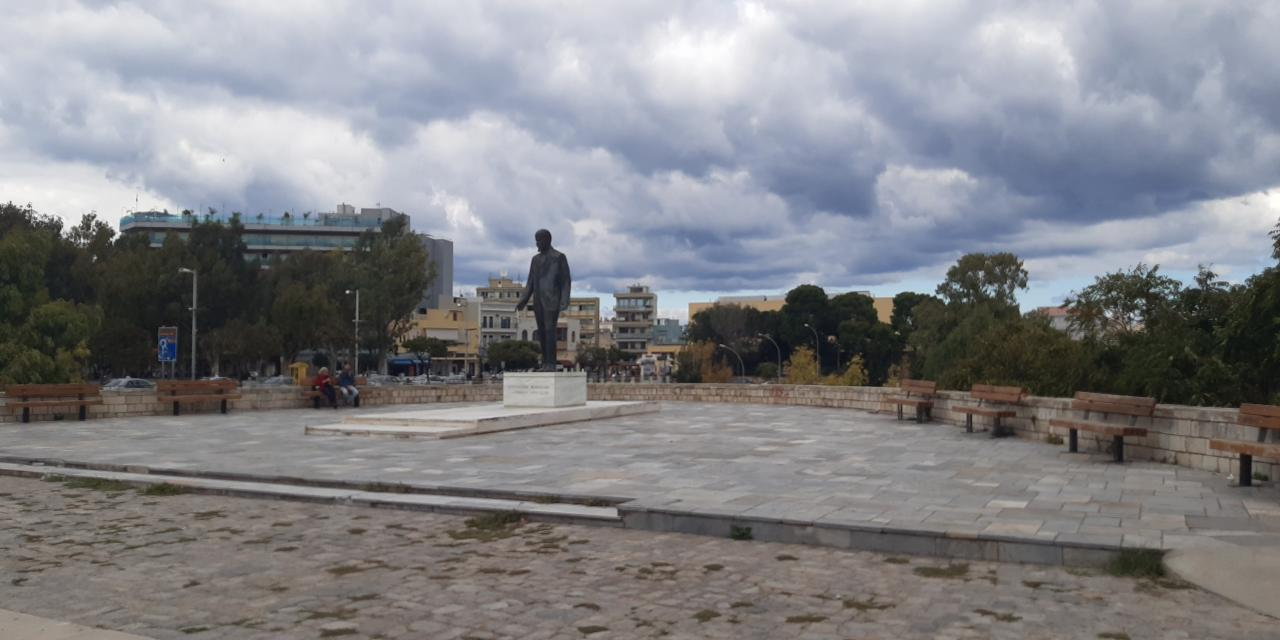Venizelos: (511, 229, 575, 371)
